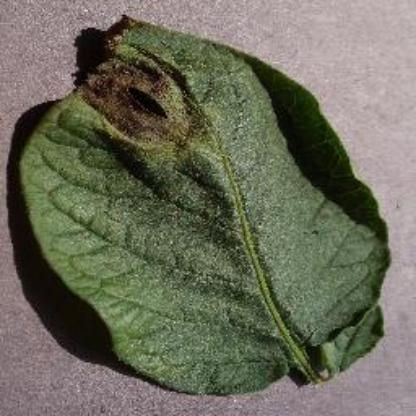Late-Blight: (16, 13, 402, 394)
